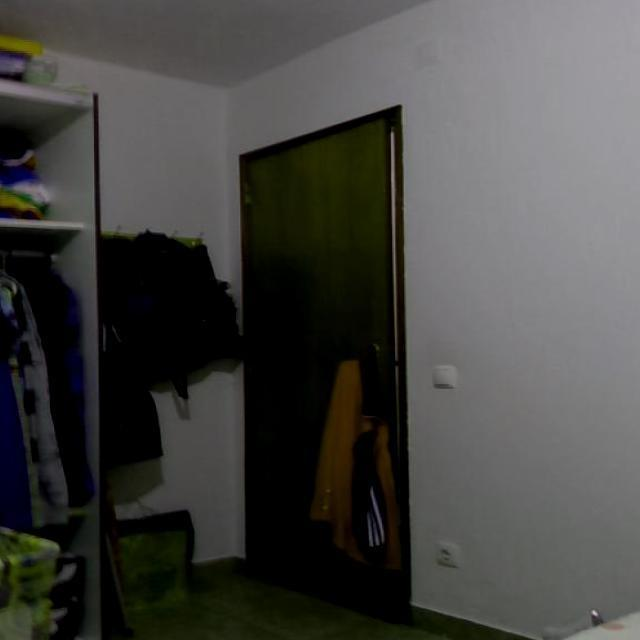door: (237, 103, 411, 623)
